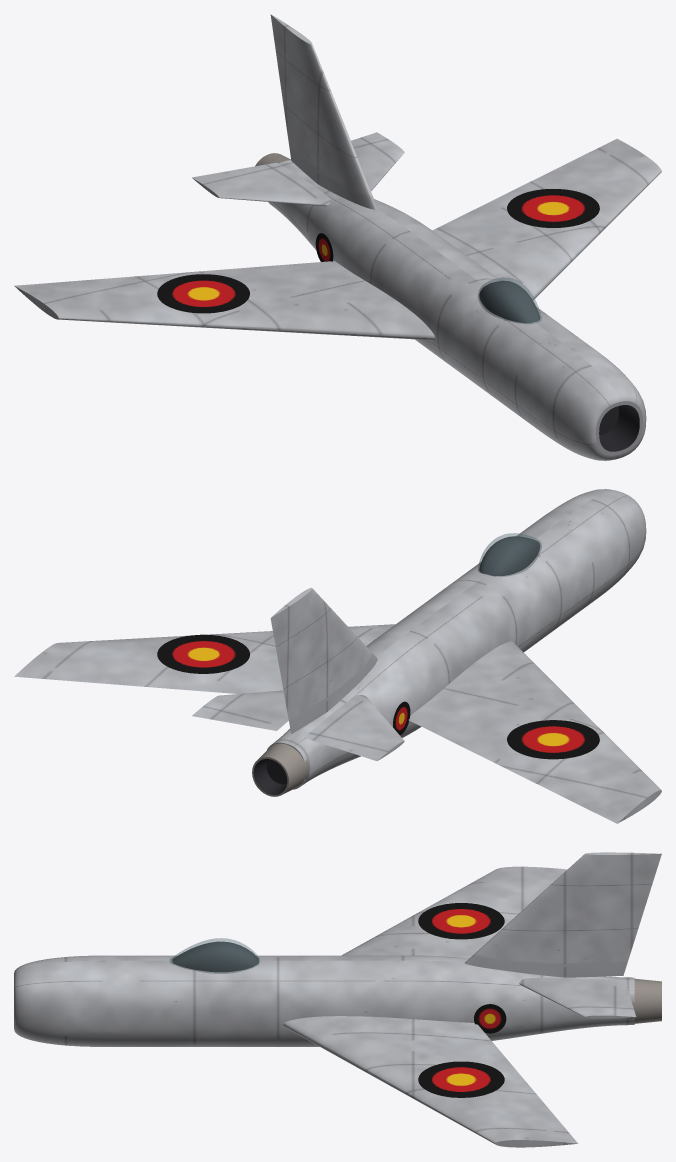
Rendered from 20_EastGer_MiG15bis.glb.
The picture shows the model from 3 angles, top to bottom: view 1: azimuth 30°, elevation 25°; view 2: azimuth 150°, elevation 25°; view 3: azimuth 270°, elevation 25°; orthographic projection. The views are drawn at different scales.
Visible parts, largest first — view 1: Fuselage, Wing0_R, Wing0_L, Fin2, Htail1_R, Decal_Wing_U_R, Decal_Wing_U_L, Canopy, Intake, Cockpit, Htail1_L; view 2: Fuselage, Wing0_R, Wing0_L, Fin2, Htail1_R, Decal_Wing_U_L, Decal_Wing_U_R, Htail1_L, Nozzle, Canopy, Cockpit; view 3: Fuselage, Wing0_L, Fin2, Wing0_R, Htail1_L, Decal_Wing_U_L, Decal_Wing_U_R, Canopy, Cockpit, Nozzle, Decal_Fus_L.
Part boxes in pixels (left/top/right/bottom): Fuselage: left=268, top=160, right=646, bottom=460; Wing0_R: left=14, top=261, right=435, bottom=340; Wing0_L: left=432, top=138, right=661, bottom=300; Fin2: left=270, top=14, right=377, bottom=209; Htail1_R: left=192, top=162, right=330, bottom=206; Decal_Wing_U_R: left=157, top=274, right=249, bottom=313; Decal_Wing_U_L: left=507, top=189, right=599, bottom=227; Canopy: left=478, top=277, right=541, bottom=323; Intake: left=595, top=401, right=642, bottom=455; Cockpit: left=479, top=280, right=540, bottom=323; Htail1_L: left=351, top=132, right=404, bottom=191; Fuselage: left=267, top=489, right=646, bottom=789; Wing0_R: left=408, top=641, right=661, bottom=823; Wing0_L: left=14, top=624, right=395, bottom=693; Fin2: left=270, top=587, right=377, bottom=733; Htail1_R: left=304, top=695, right=404, bottom=760; Decal_Wing_U_L: left=157, top=634, right=249, bottom=673; Decal_Wing_U_R: left=507, top=720, right=599, bottom=759; Htail1_L: left=192, top=690, right=288, bottom=730; Nozzle: left=252, top=743, right=309, bottom=796; Canopy: left=478, top=533, right=541, bottom=576; Cockpit: left=479, top=536, right=540, bottom=576; Fuselage: left=14, top=955, right=634, bottom=1046; Wing0_L: left=283, top=1016, right=577, bottom=1147; Fin2: left=465, top=852, right=661, bottom=977; Wing0_R: left=341, top=866, right=567, bottom=958; Htail1_L: left=519, top=977, right=636, bottom=1018; Decal_Wing_U_L: left=418, top=1061, right=504, bottom=1097; Decal_Wing_U_R: left=418, top=903, right=504, bottom=939; Canopy: left=170, top=938, right=259, bottom=973; Cockpit: left=172, top=941, right=258, bottom=972; Nozzle: left=630, top=978, right=661, bottom=1023; Decal_Fus_L: left=474, top=1004, right=506, bottom=1033.
Bounding box in the file's own units: 10.08 × 3.24 × 10.1.
6 materials, 2 textured.
